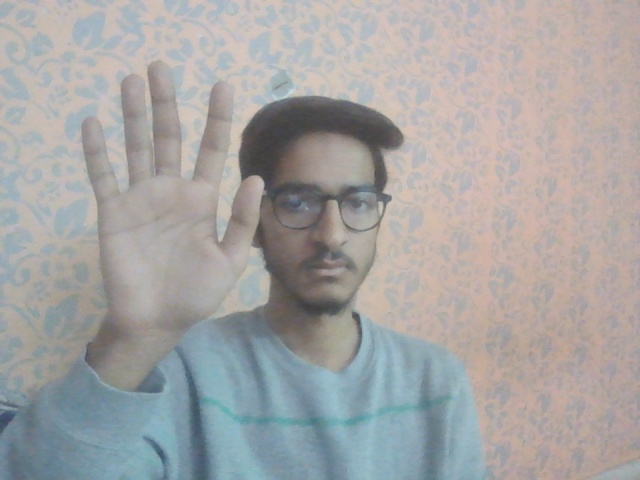Hello: (76, 58, 266, 340)
